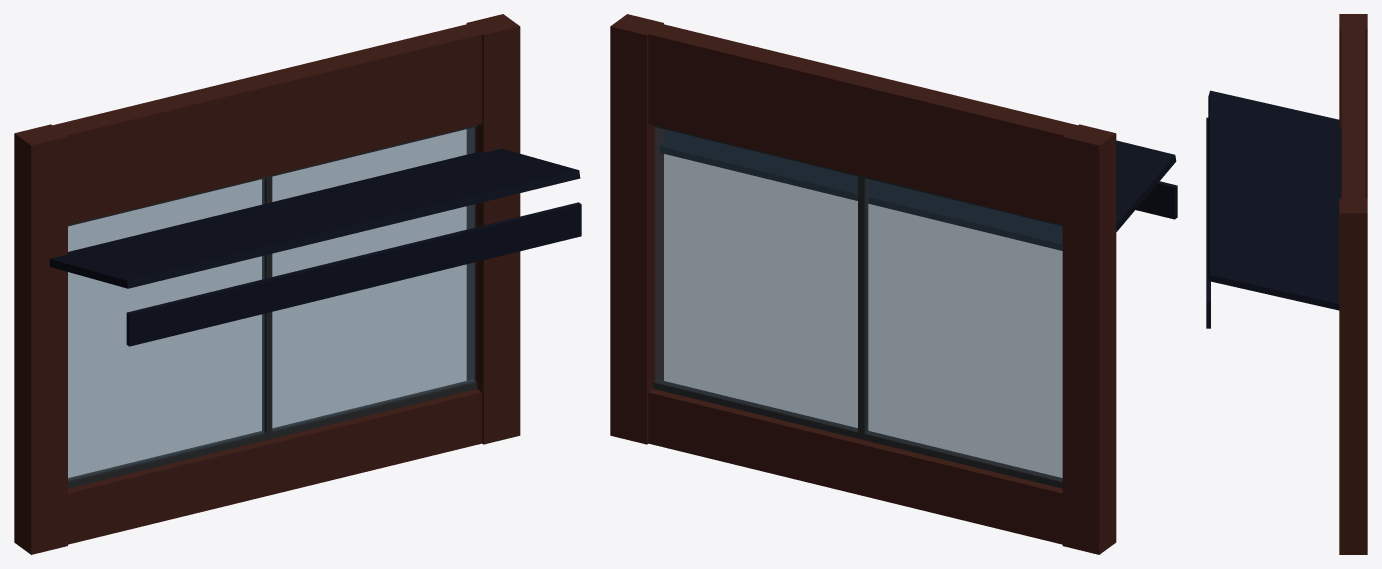
The model's file is KIT_Storefront_4m_BrickDark_Navy.glb.
The picture shows the model from 3 angles, left to right: view 1: azimuth 30°, elevation 25°; view 2: azimuth 150°, elevation 25°; view 3: azimuth 270°, elevation 25°; orthographic projection. The views are drawn at different scales.
Parts seen in each view (by area): view 1: KIT_Storefront_4m_BrickDark_Navy; view 2: KIT_Storefront_4m_BrickDark_Navy; view 3: KIT_Storefront_4m_BrickDark_Navy.
Part boxes in pixels (x1=…): KIT_Storefront_4m_BrickDark_Navy: x1=14, y1=14, x2=581, y2=554; KIT_Storefront_4m_BrickDark_Navy: x1=610, y1=14, x2=1177, y2=554; KIT_Storefront_4m_BrickDark_Navy: x1=1206, y1=14, x2=1367, y2=554.
Bounding box in the file's own units: 4 × 3.2 × 1.37.
